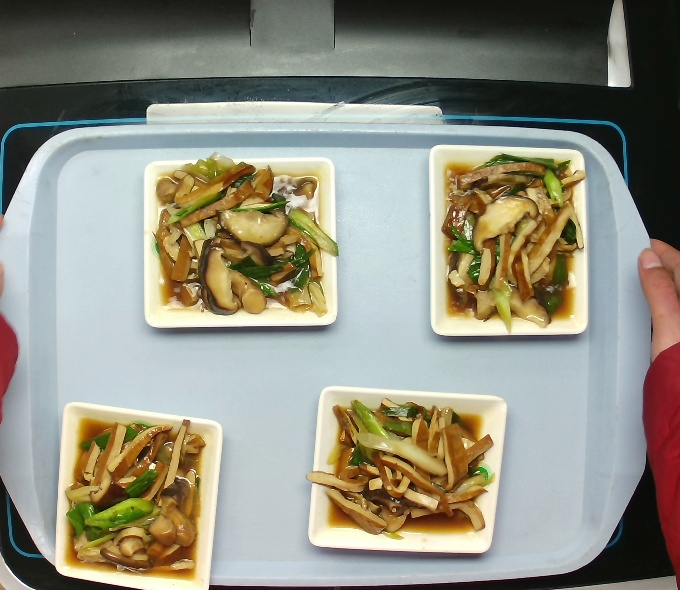wcq-XiangGuChaoXiangGan: (144, 152, 334, 323), (304, 386, 499, 549), (433, 151, 591, 337), (60, 404, 210, 583)
